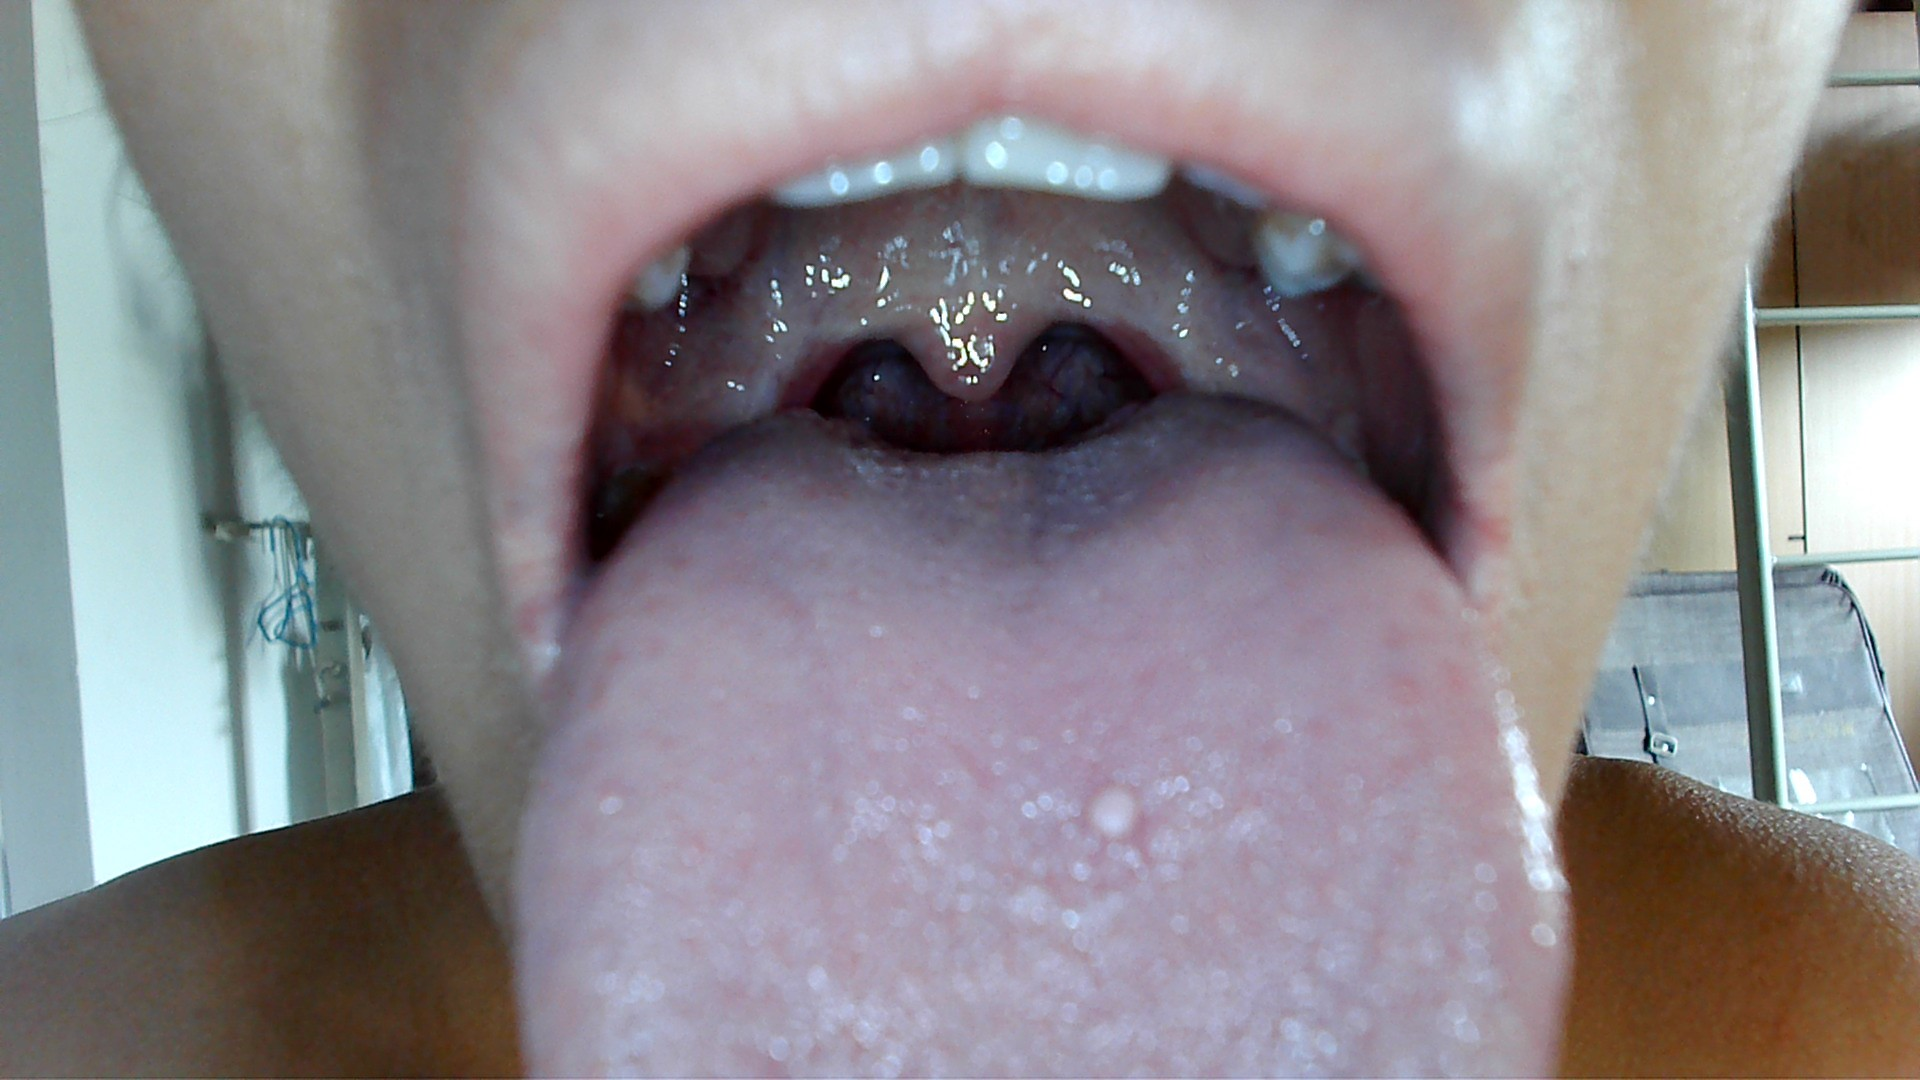throat: (1106, 232, 1222, 400), (709, 291, 843, 429)
